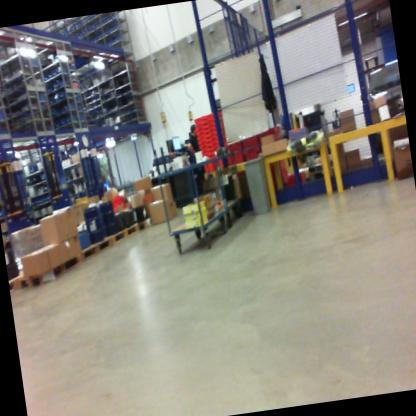pallet: (12, 251, 86, 297), (76, 234, 115, 263), (108, 219, 141, 252), (8, 270, 27, 296), (133, 210, 153, 232)
small_load_carrier: (239, 119, 286, 159), (281, 170, 315, 197), (198, 152, 226, 175), (225, 143, 246, 168)
